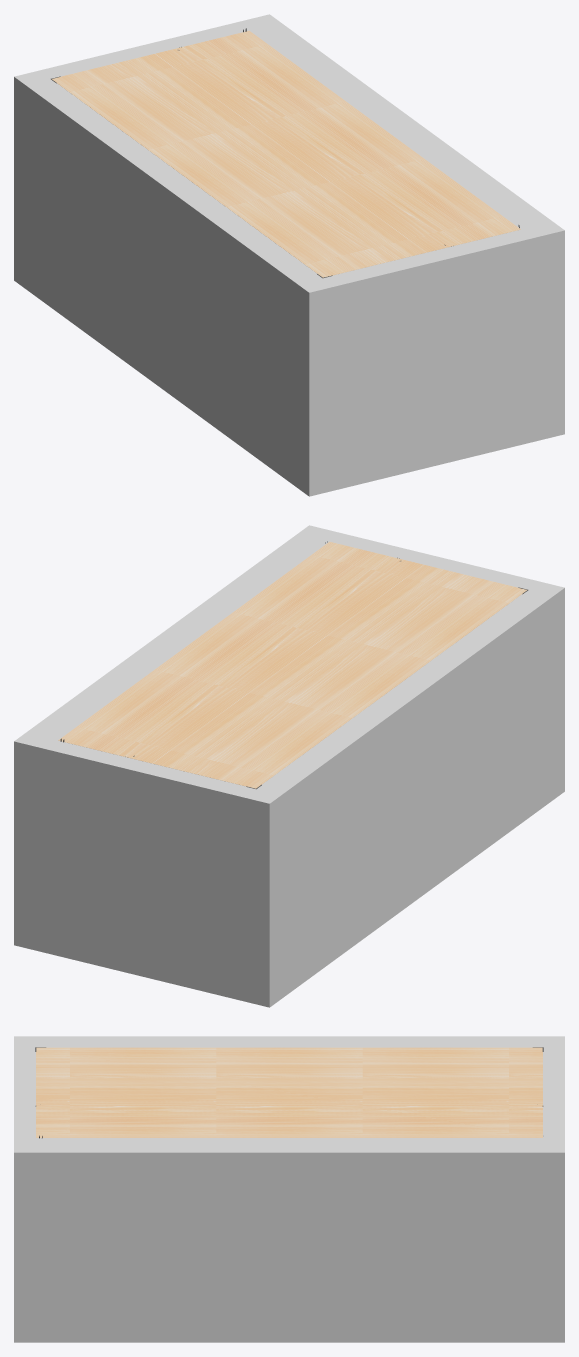
Rendered from WorkBench.gltf.
The picture shows the model from 3 angles, top to bottom: view 1: azimuth 30°, elevation 25°; view 2: azimuth 150°, elevation 25°; view 3: azimuth 270°, elevation 25°; orthographic projection. The views are drawn at different scales.
Visible parts, largest first — view 1: COL, Bench; view 2: COL, Bench; view 3: COL, Bench.
Boxes of the visible parts, x1=… form: COL: x1=14, y1=14, x2=564, y2=496; Bench: x1=51, y1=28, x2=520, y2=278; COL: x1=14, y1=525, x2=564, y2=1007; Bench: x1=58, y1=541, x2=528, y2=789; COL: x1=14, y1=1036, x2=564, y2=1342; Bench: x1=35, y1=1047, x2=543, y2=1138.
Bounding box in the file's own units: 1 × 0.7744 × 2.
4 materials, 1 textured.
